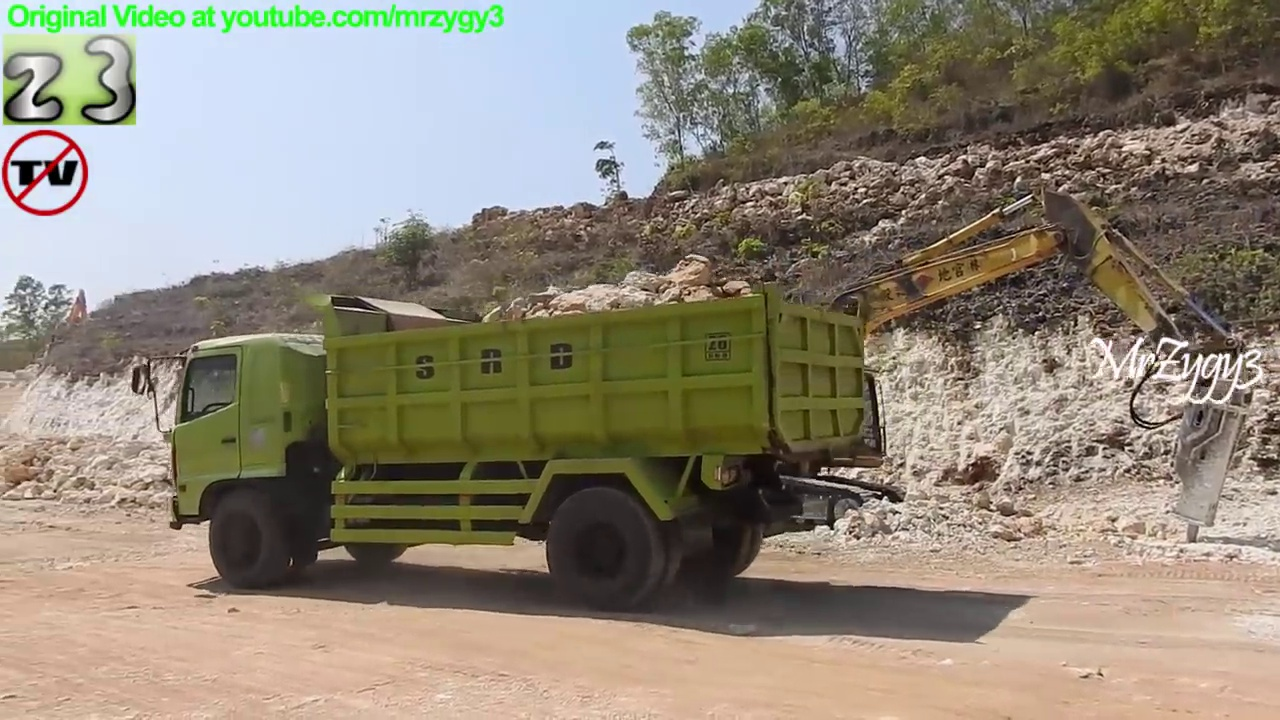excavator: (619, 192, 1257, 551), (50, 286, 92, 350)
truck: (130, 288, 907, 614)
